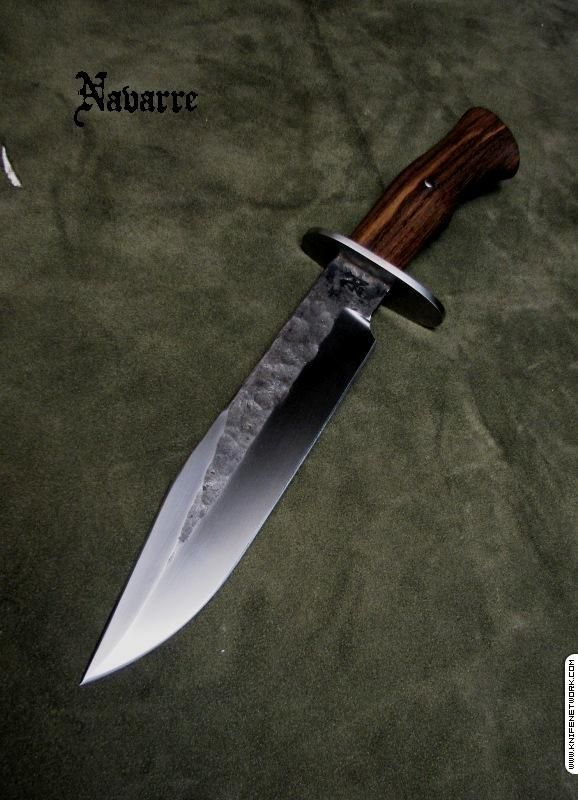knife: (62, 88, 529, 702)
